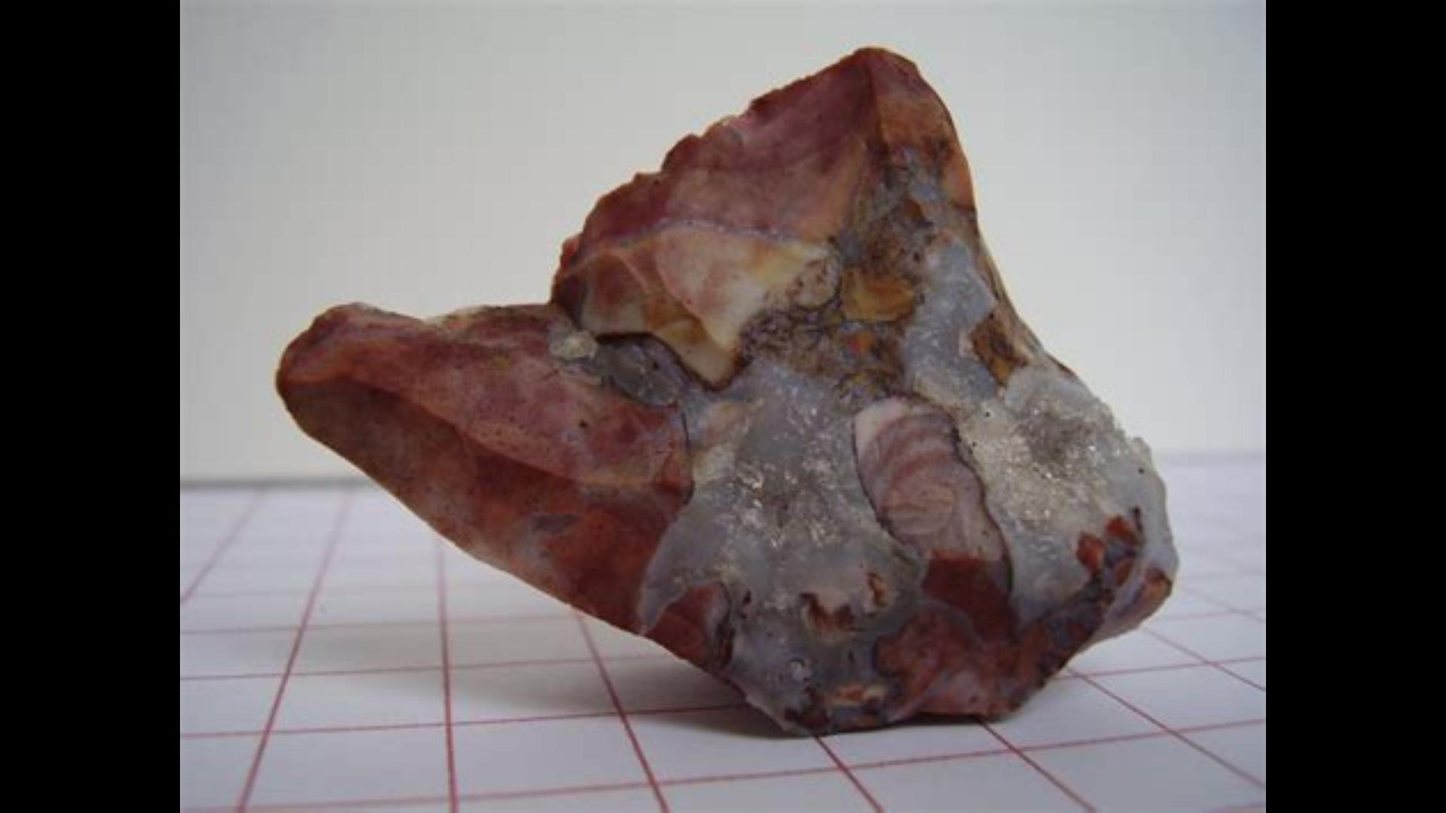rock: (279, 50, 1170, 726)
